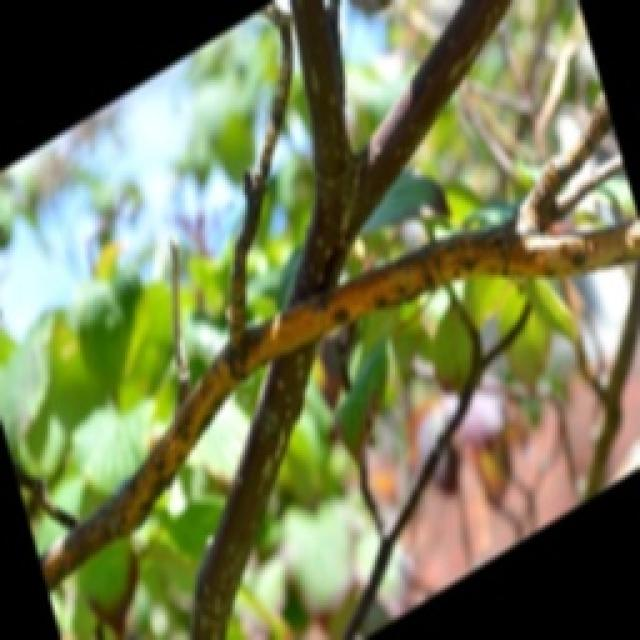Golden_canker: (8, 92, 640, 580)
